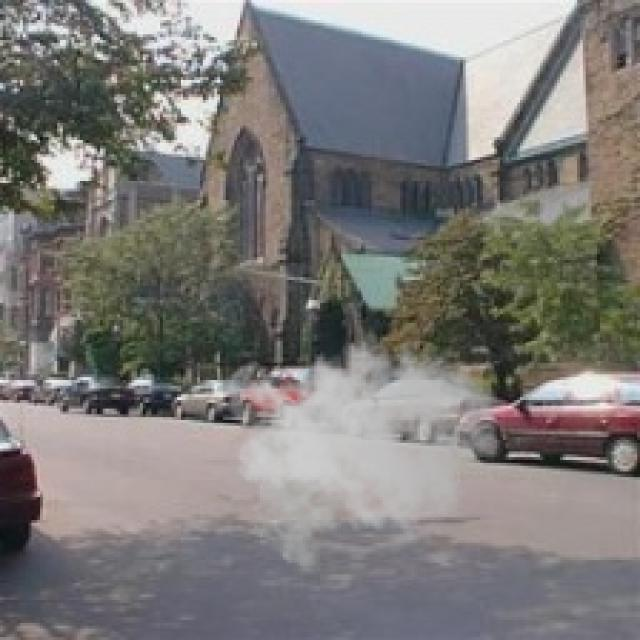smoke: (217, 317, 500, 566)
